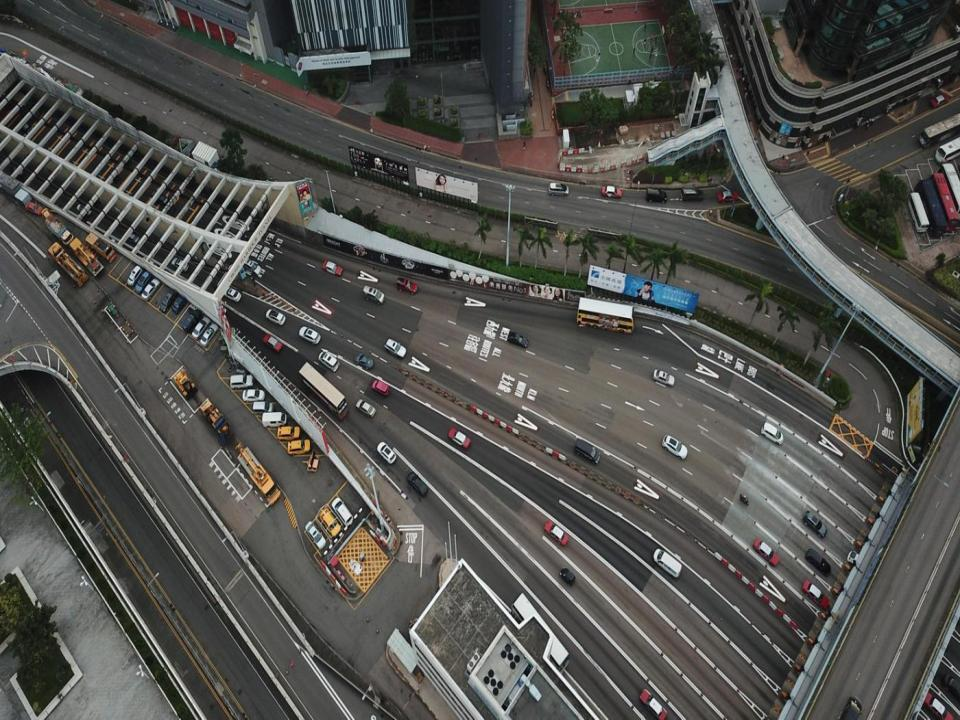bus: (511, 592, 570, 675), (298, 362, 349, 421), (576, 296, 634, 334), (915, 178, 947, 238), (927, 173, 959, 232), (918, 113, 960, 147), (936, 163, 960, 221), (8, 88, 40, 118), (907, 192, 929, 232), (934, 137, 960, 166)
car: (640, 688, 667, 719), (923, 692, 954, 719), (802, 579, 828, 610), (753, 537, 779, 566), (662, 435, 687, 460), (305, 521, 326, 550), (544, 520, 568, 544), (406, 472, 428, 497), (847, 549, 869, 573), (943, 673, 960, 700), (158, 288, 177, 312), (200, 322, 219, 346), (448, 428, 470, 448), (192, 316, 211, 339), (376, 442, 396, 463), (299, 326, 321, 345), (355, 398, 377, 417), (652, 369, 675, 387), (142, 278, 160, 300), (262, 334, 283, 352), (506, 331, 528, 347), (242, 387, 265, 402), (265, 309, 286, 325), (321, 260, 343, 275), (354, 353, 373, 370), (717, 190, 739, 204), (138, 255, 156, 272), (560, 567, 576, 586), (170, 256, 188, 272), (223, 286, 241, 302), (25, 201, 44, 216), (930, 94, 948, 109), (602, 186, 622, 199), (171, 296, 186, 313), (19, 119, 33, 135), (76, 203, 92, 215), (42, 207, 53, 224)
truck: (235, 442, 281, 505), (48, 241, 88, 287), (198, 398, 234, 443), (68, 236, 104, 277), (44, 213, 74, 247), (85, 232, 117, 263)
van: (653, 548, 682, 578), (805, 548, 831, 576), (574, 438, 601, 463), (319, 506, 341, 536), (802, 511, 827, 537), (332, 496, 352, 526), (839, 695, 862, 719), (761, 421, 783, 445), (182, 310, 203, 334), (317, 351, 340, 372), (261, 411, 287, 429), (362, 285, 384, 304), (276, 425, 300, 442), (384, 338, 406, 356), (134, 270, 150, 294), (287, 439, 311, 455), (228, 374, 253, 389), (646, 187, 667, 204), (396, 278, 418, 294), (680, 187, 703, 202), (127, 265, 142, 287), (252, 401, 274, 416), (242, 257, 261, 274), (372, 379, 388, 396), (549, 182, 569, 195), (124, 231, 140, 245), (10, 166, 24, 179)
